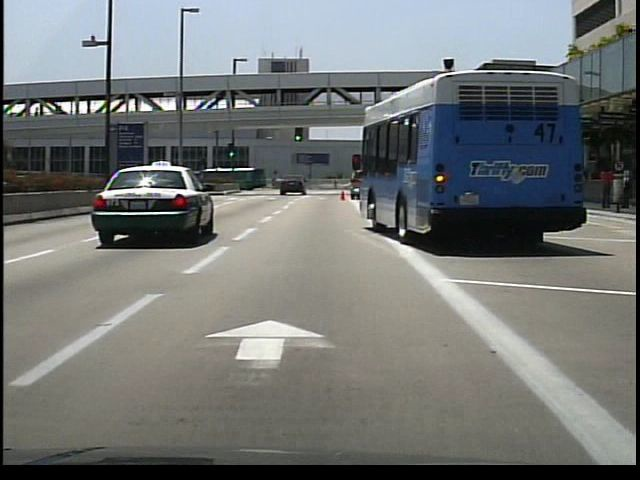person: (596, 160, 615, 212), (620, 162, 632, 211)
